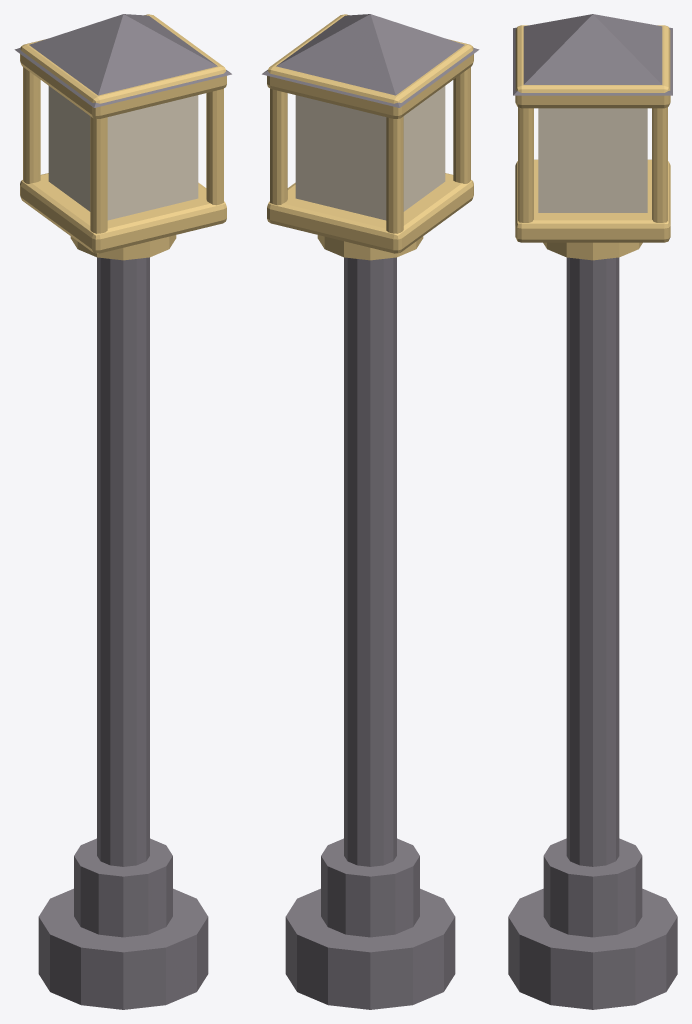
File: Kit_LampPost.fbx
3 views of the same model, side by side, from view 1: azimuth 30°, elevation 25°; view 2: azimuth 150°, elevation 25°; view 3: azimuth 270°, elevation 25° (orthographic).
Parts seen in each view (by area): view 1: Kit_LampPost; view 2: Kit_LampPost; view 3: Kit_LampPost.
Boxes of the visible parts, <box> form: Kit_LampPost: <box>14,14,231,1009</box>; Kit_LampPost: <box>262,14,479,1009</box>; Kit_LampPost: <box>508,14,677,1009</box>.
Size of the model in its own units: 0.48 by 3 by 0.48.
